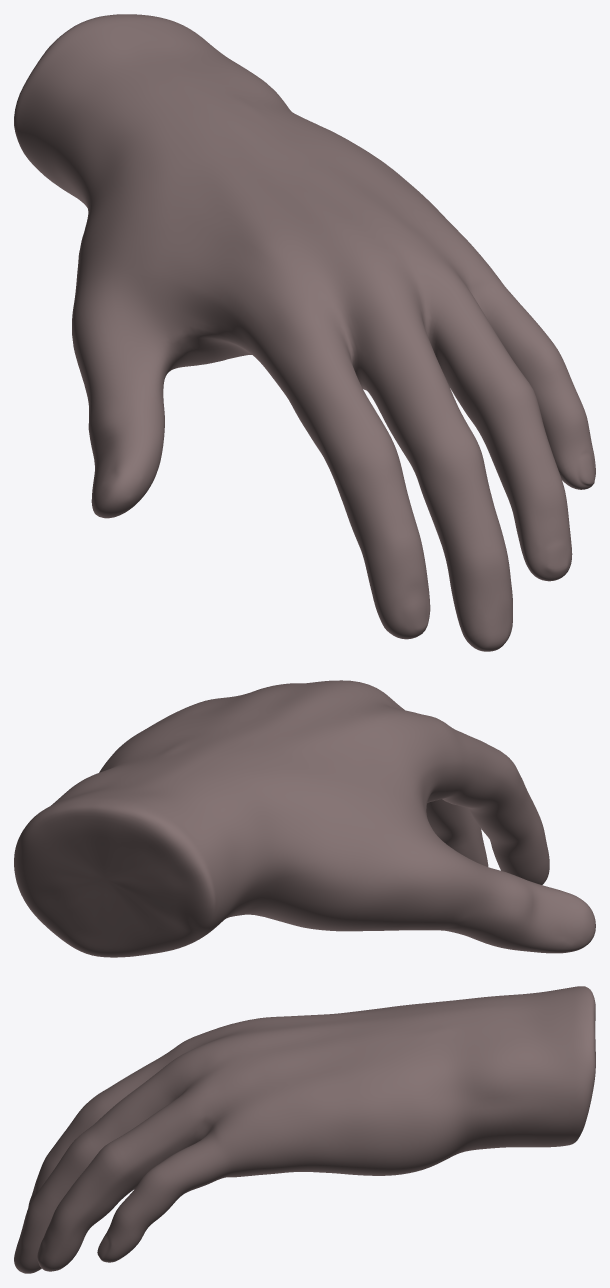
The model's file is Paper.glb.
3 renders of one model, top to bottom at view 1: azimuth 30°, elevation 25°; view 2: azimuth 150°, elevation 25°; view 3: azimuth 270°, elevation 25°, orthographic. The views are drawn at different scales.
Visible parts, largest first — view 1: node_id78; view 2: node_id78; view 3: node_id78.
Boxes of the visible parts, bbox=[...] form: node_id78: bbox=[14, 14, 595, 651]; node_id78: bbox=[14, 680, 595, 957]; node_id78: bbox=[14, 986, 595, 1273].
Size of the model in its own units: 0.512 by 0.4137 by 0.8052.
1 material, 1 textured.
